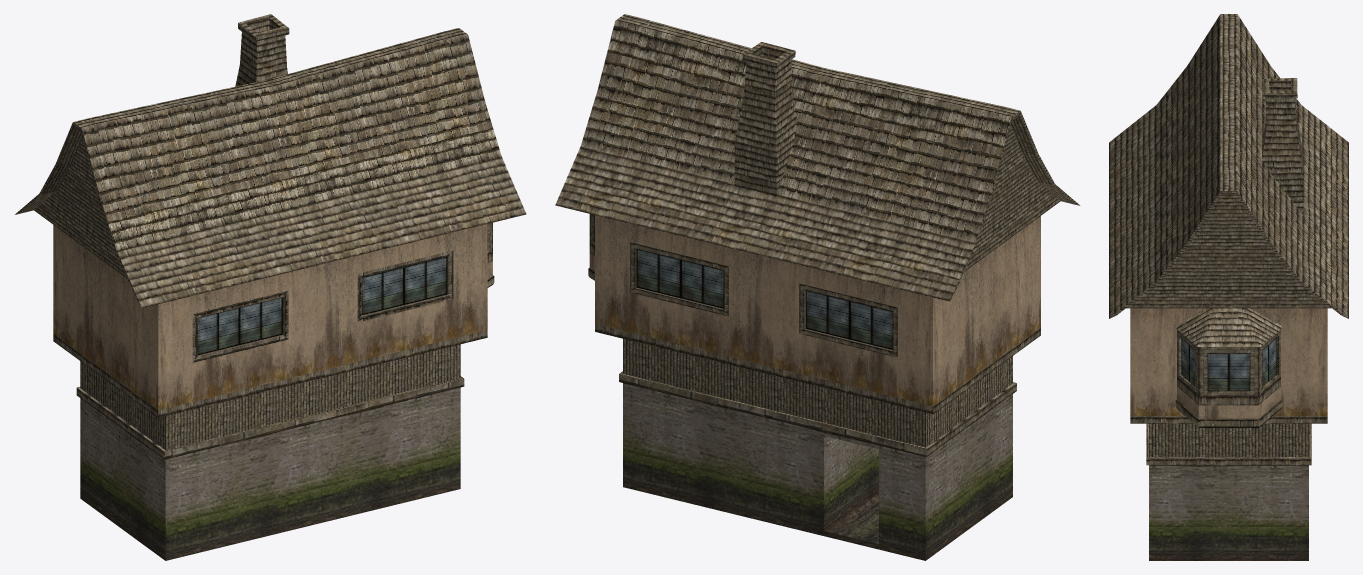
The model's file is f1_house04_lod2.dae.
3 views of the same model, side by side, from view 1: azimuth 30°, elevation 25°; view 2: azimuth 150°, elevation 25°; view 3: azimuth 270°, elevation 25° (orthographic). The views are drawn at different scales.
Visible parts, largest first — view 1: f1_house04_lod2_Layer1; view 2: f1_house04_lod2_Layer1; view 3: f1_house04_lod2_Layer1.
Boxes of the visible parts, <box> form: f1_house04_lod2_Layer1: <box>15,14,526,560</box>; f1_house04_lod2_Layer1: <box>555,14,1080,560</box>; f1_house04_lod2_Layer1: <box>1109,14,1348,560</box>.
Bounding box in the file's own units: 8.17 × 8.63 × 4.49.
